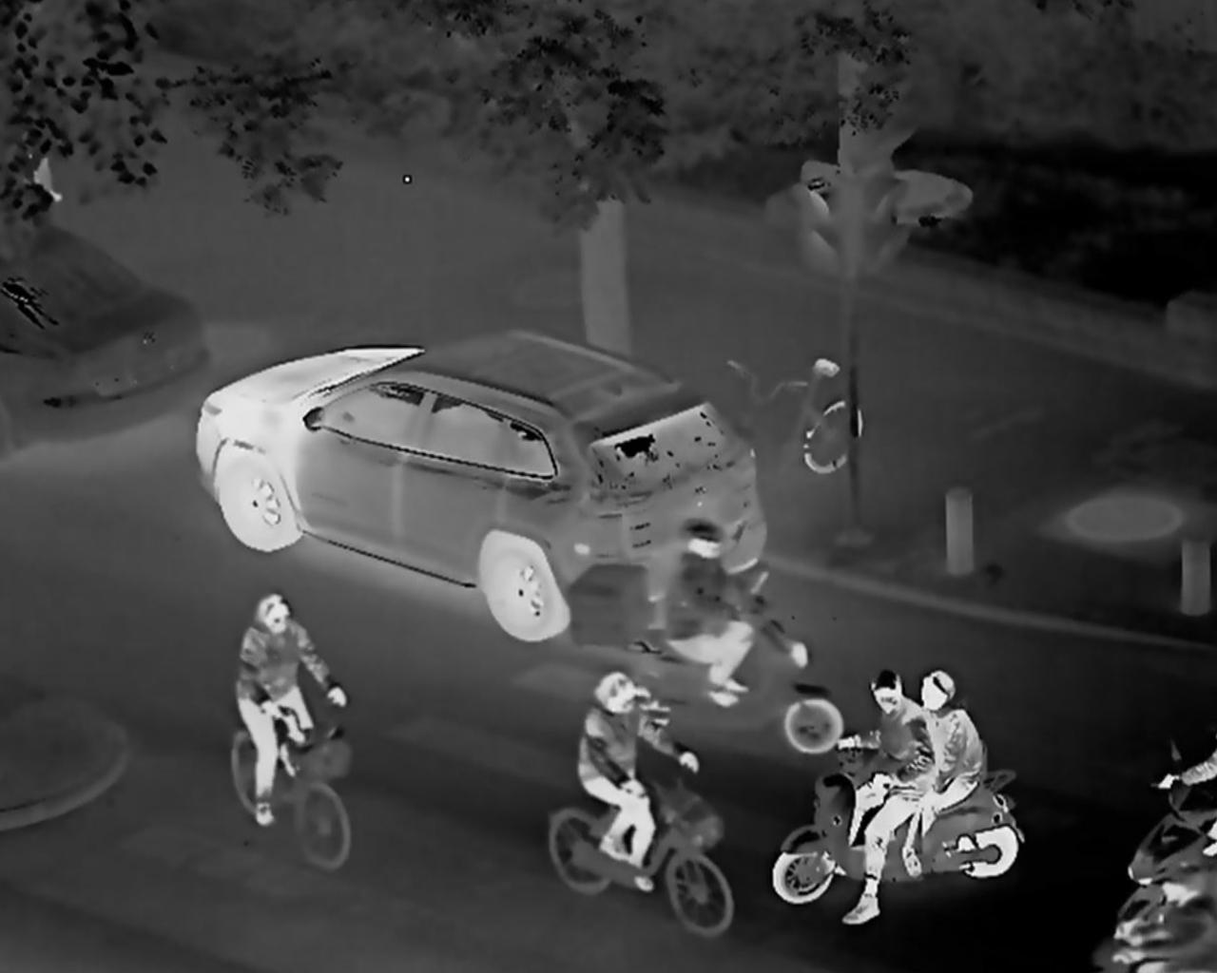person: (575, 668, 699, 896), (235, 590, 341, 828), (822, 670, 916, 925), (663, 520, 763, 705), (900, 670, 977, 874)
